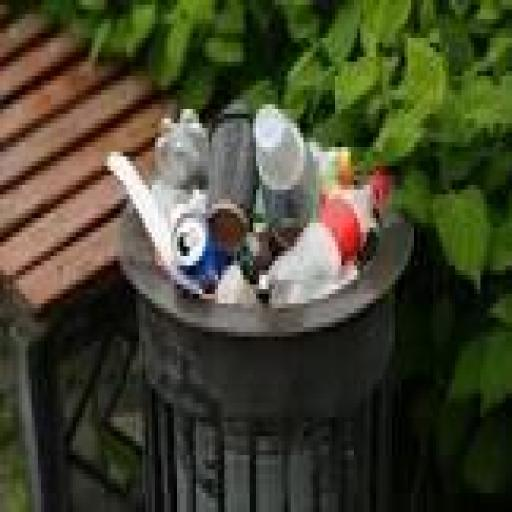poubelle_pleine: (98, 63, 428, 508)
